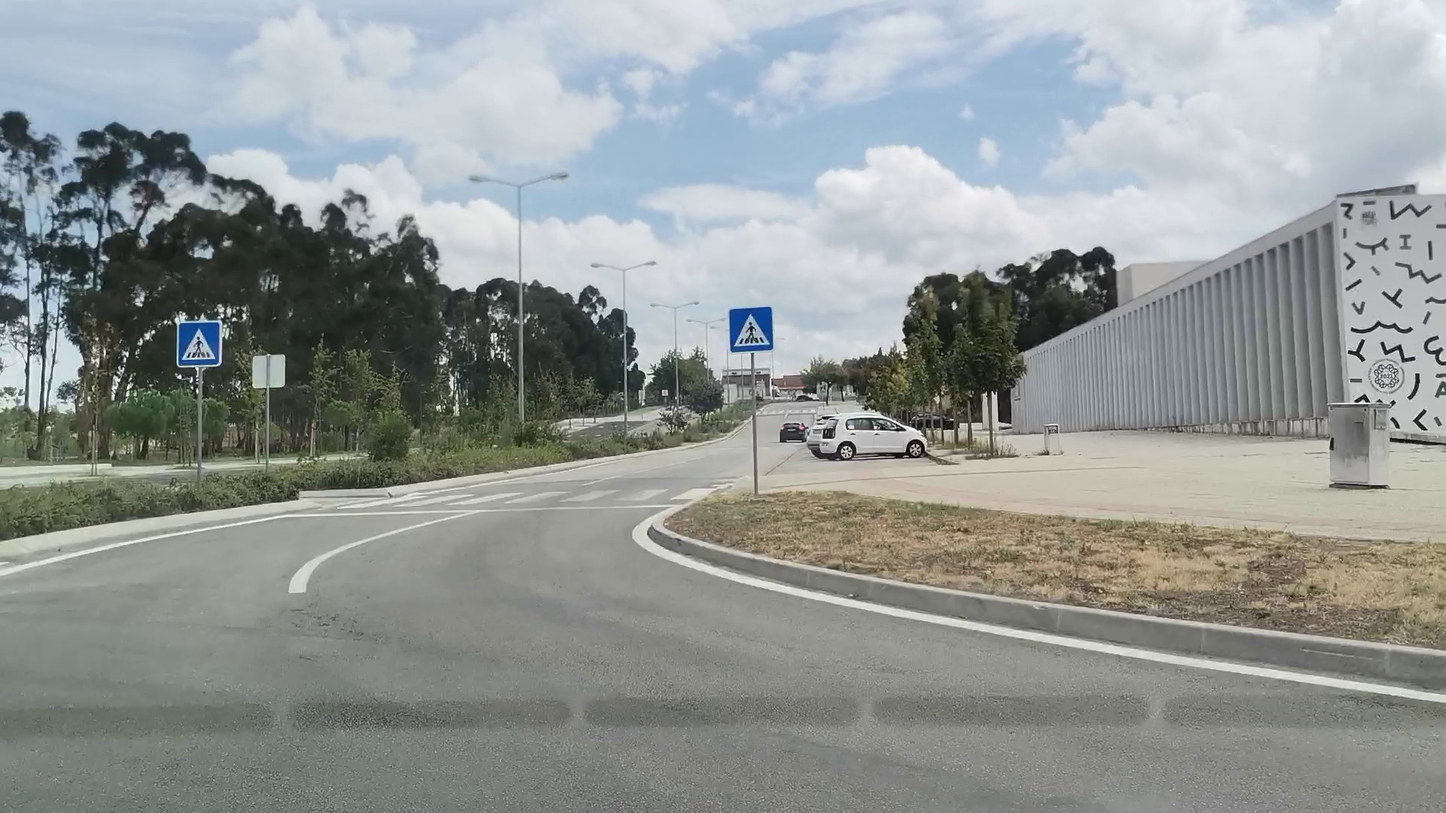Stairs: (351, 486, 714, 509)
